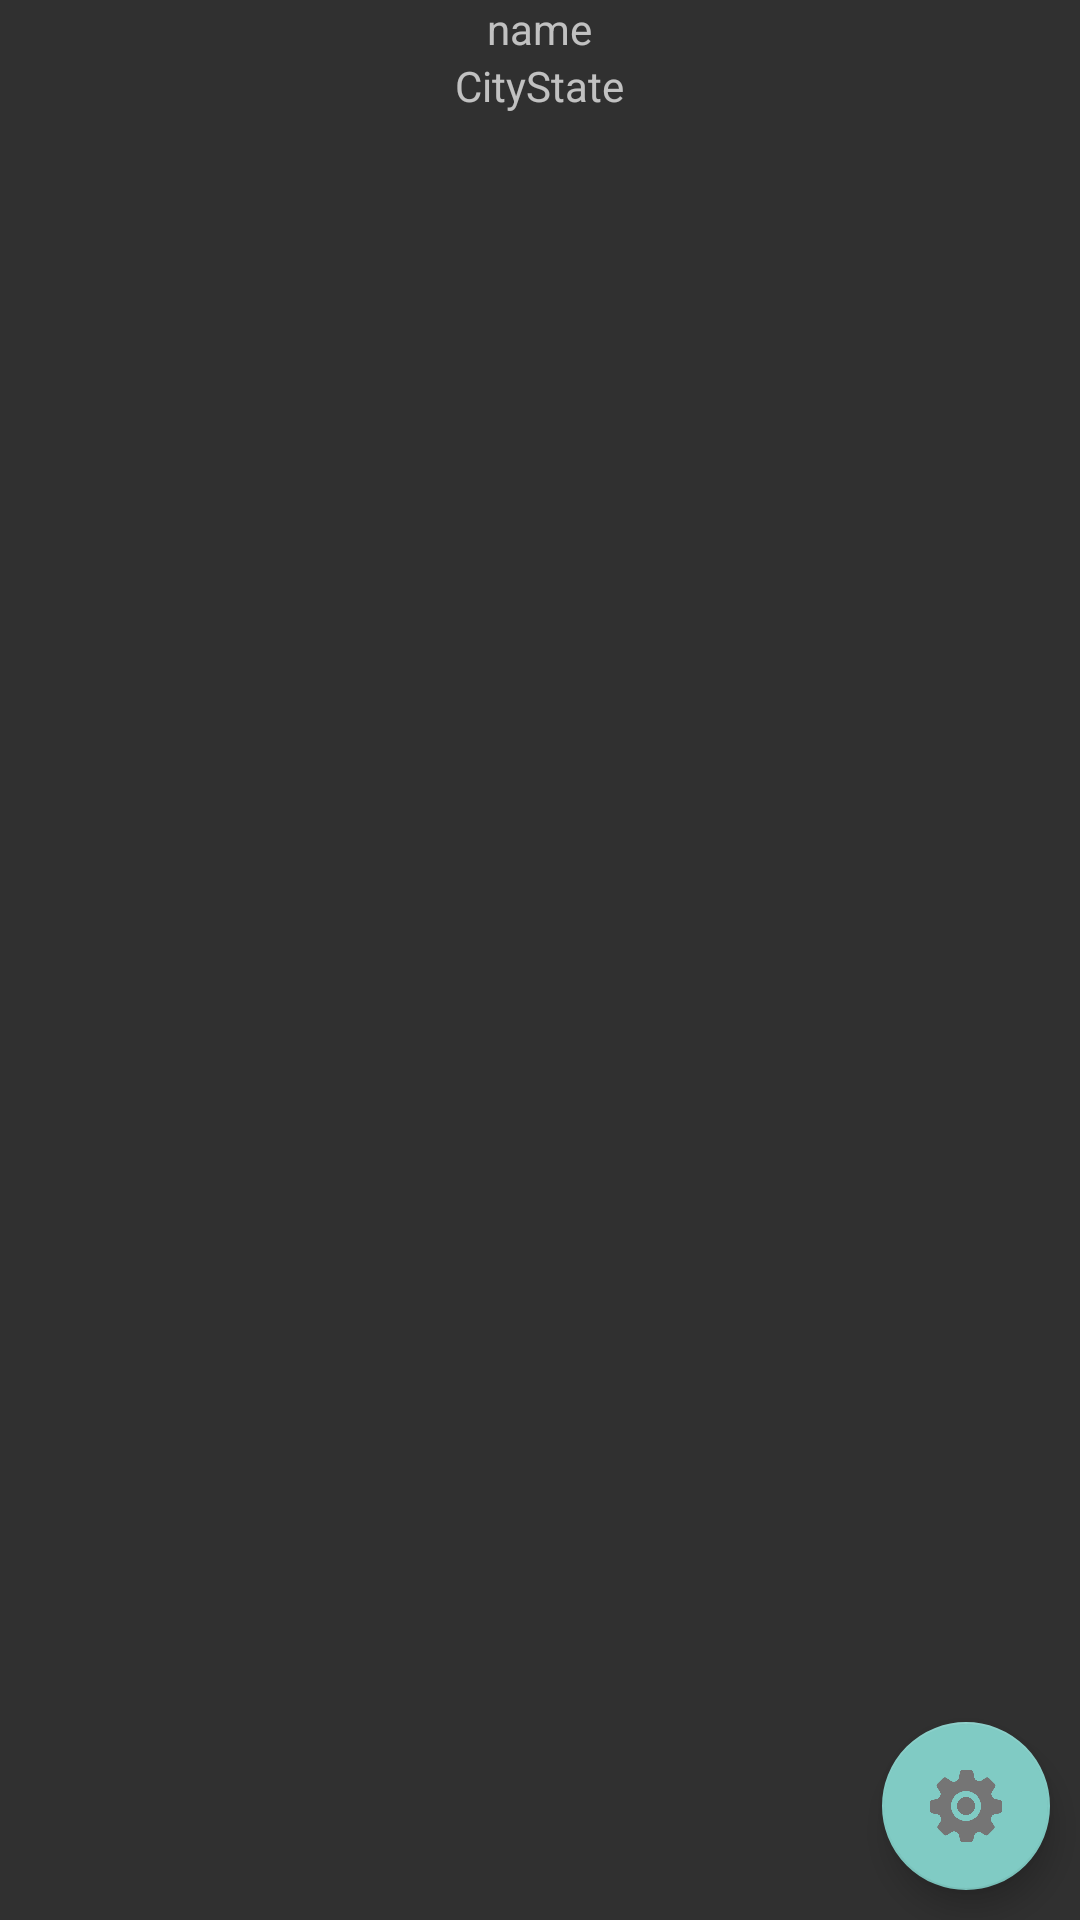

Locate icon controls on the screen. Image size 1080 x 1920, boxes as (x1=x1, y1=y1, x2=x2, y2=y2).
settings: (x1=882, y1=1722, x2=1050, y2=1890)
